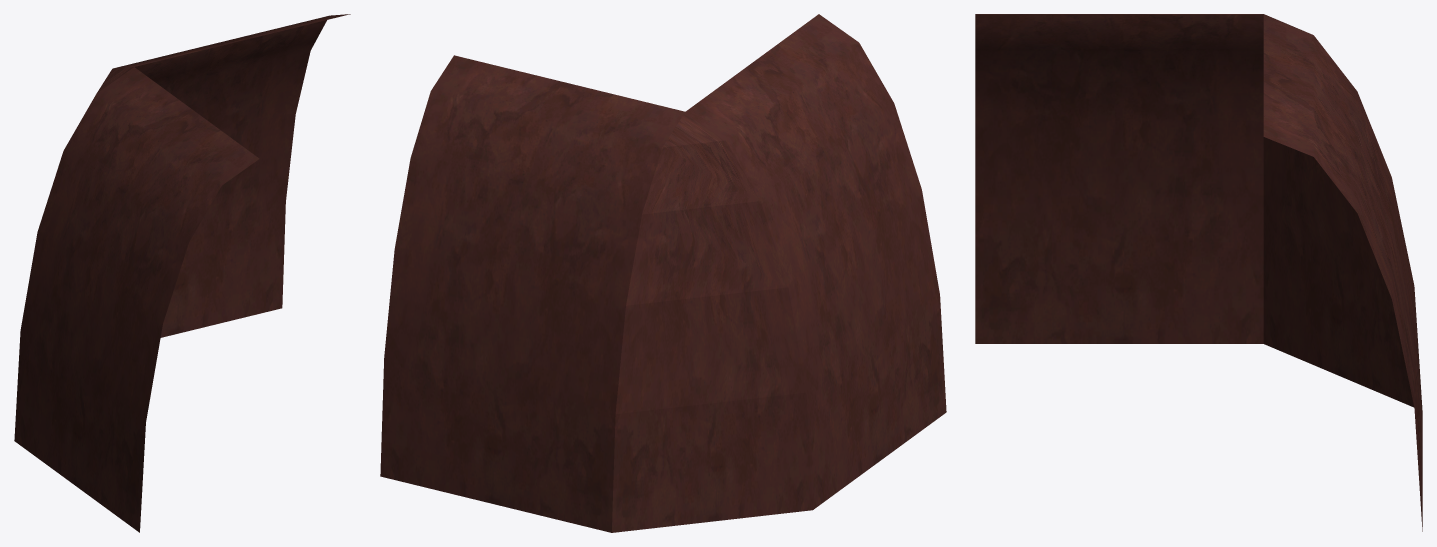
File: lava_base_concave_01.fbx
3 renders of one model, left to right at view 1: azimuth 30°, elevation 25°; view 2: azimuth 150°, elevation 25°; view 3: azimuth 270°, elevation 25°, orthographic. The views are drawn at different scales.
Visible parts, largest first — view 1: lava_tileset/lava_wall02; view 2: lava_tileset/lava_wall02; view 3: lava_tileset/lava_wall02.
Boxes of the visible parts, bbox=[...] form: lava_tileset/lava_wall02: bbox=[14, 14, 350, 532]; lava_tileset/lava_wall02: bbox=[380, 14, 946, 532]; lava_tileset/lava_wall02: bbox=[975, 14, 1422, 531].
Size of the model in its own units: 5.62 by 5.5 by 5.62.
